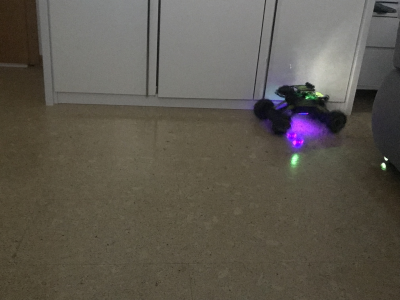remote control car: (246, 80, 349, 137)
